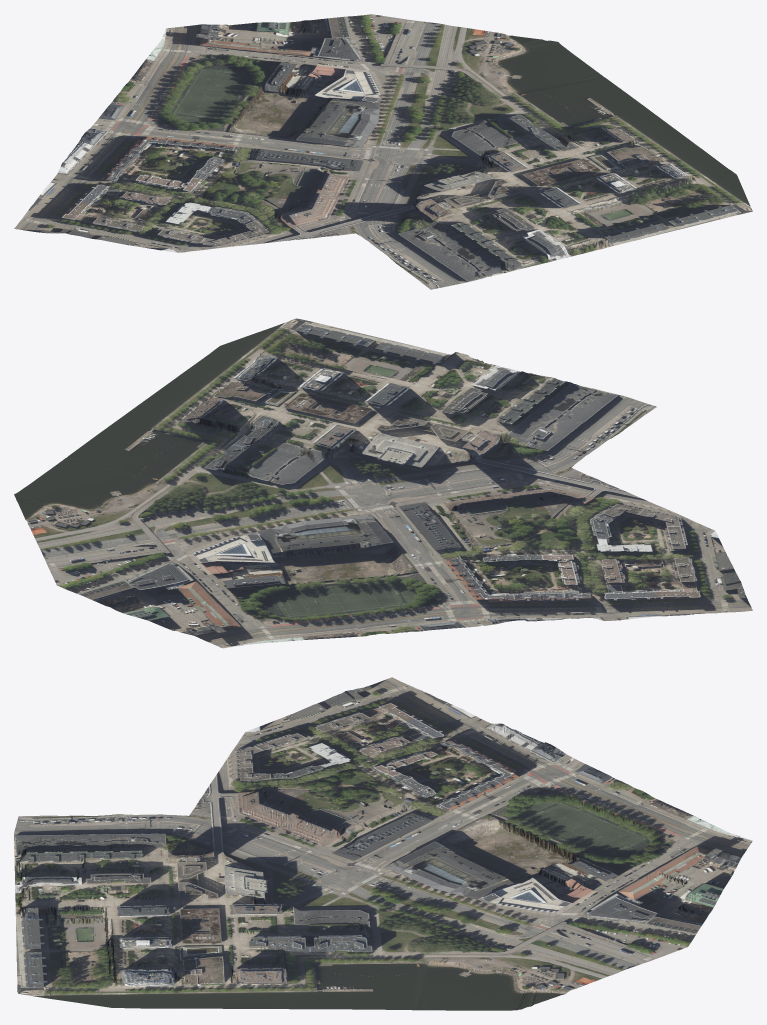
File: terrain.glb
3 renders of one model, top to bottom at view 1: azimuth 30°, elevation 25°; view 2: azimuth 150°, elevation 25°; view 3: azimuth 270°, elevation 25°, orthographic. The views are drawn at different scales.
Parts seen in each view (by area): view 1: terrain; view 2: terrain; view 3: terrain.
Boxes of the visible parts, left/top/right/bottom form: terrain: left=14, top=14, right=752, bottom=289; terrain: left=14, top=318, right=752, bottom=648; terrain: left=14, top=677, right=752, bottom=1010.
Bounding box in the file's own units: 624 × 11.48 × 589.
2 materials, 2 textured.
